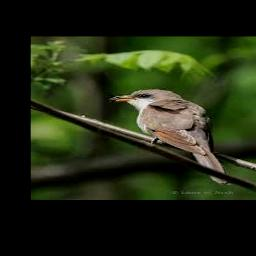Cuckoo: (110, 89, 230, 186)
